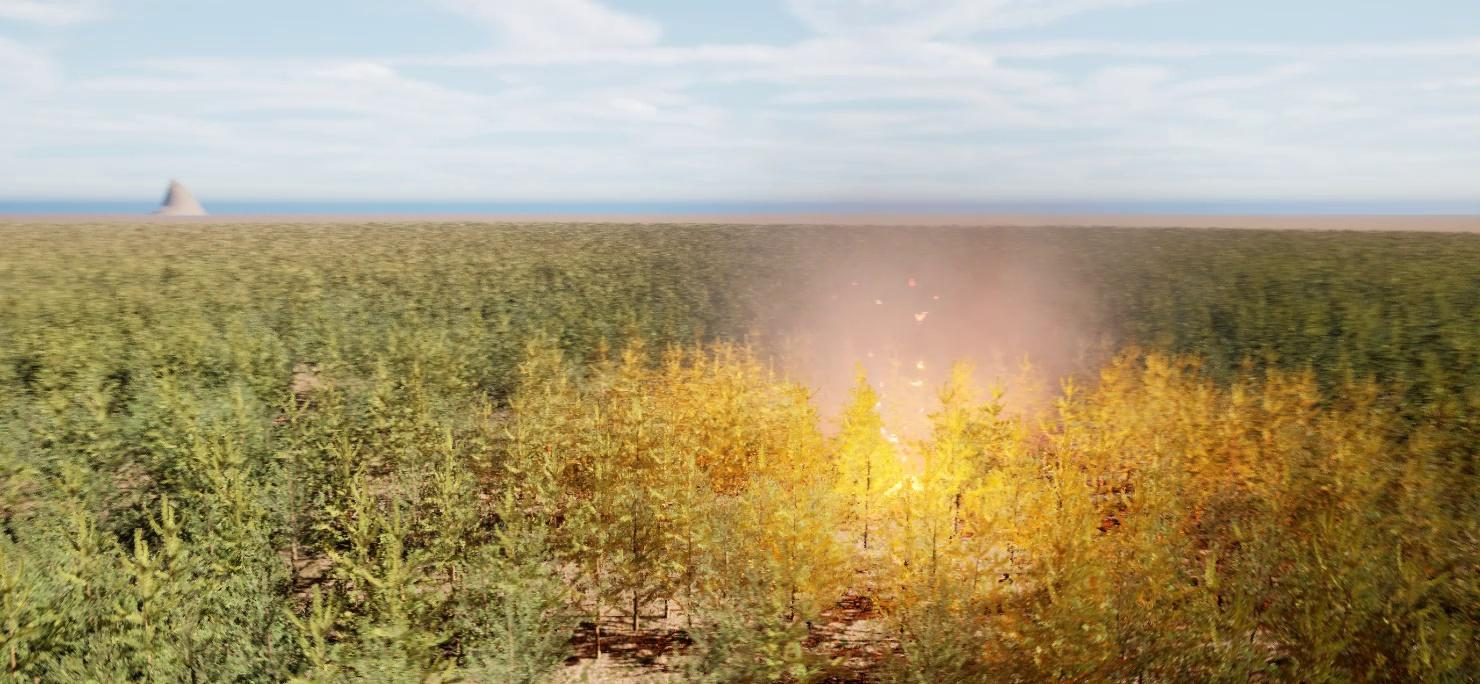fire: (762, 388, 1294, 504)
smoke: (747, 215, 1122, 457)
